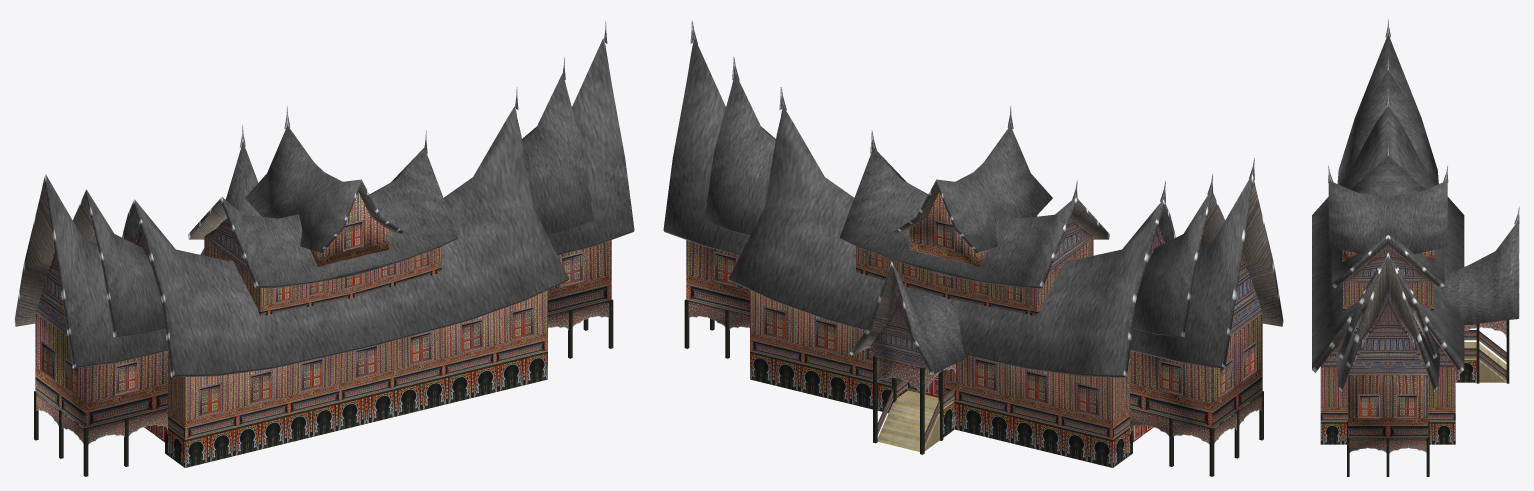
Rendered from rumah-gadang.glb.
The picture shows the model from 3 angles, left to right: view 1: azimuth 30°, elevation 25°; view 2: azimuth 150°, elevation 25°; view 3: azimuth 270°, elevation 25°; orthographic projection. The views are drawn at different scales.
Visible parts, largest first — view 1: Plane.003, Plane.028, Plane.026, Plane.029, Plane.036, Plane, Plane.027, Plane.034, Plane.035, Plane.040, Plane.041, Plane.042 (+5 smaller); view 2: Plane.003, Plane.028, Plane.026, Plane.029, Plane.036, Plane, Plane.027, Plane.038, Plane.034, Cube.018, Plane.039, Plane.035 (+7 smaller); view 3: Plane.003, Plane.029, Plane.027, Plane.036, Plane.026, Plane.038, Plane.028, Plane, Plane.034, Cube.018, Plane.043, Plane.039 (+3 smaller).
Boxes of the visible parts, x1,y1,x2,y2 form: Plane.003: [122, 106, 569, 377]; Plane.028: [133, 226, 547, 467]; Plane.026: [14, 38, 634, 368]; Plane.029: [35, 240, 611, 444]; Plane.036: [73, 73, 593, 337]; Plane: [188, 147, 458, 288]; Plane.027: [245, 125, 403, 252]; Plane.034: [204, 218, 441, 316]; Plane.035: [260, 192, 388, 266]; Plane.040: [300, 330, 432, 392]; Plane.041: [249, 318, 483, 405]; Plane.042: [198, 305, 534, 417]; Plane.003: [728, 106, 1175, 377]; Plane.028: [750, 226, 1164, 467]; Plane.026: [663, 38, 1283, 368]; Plane.029: [686, 240, 1262, 444]; Plane.036: [704, 73, 1224, 337]; Plane: [839, 147, 1109, 288]; Plane.027: [894, 125, 1052, 252]; Plane.038: [849, 261, 967, 374]; Plane.034: [856, 218, 1093, 316]; Cube.018: [877, 380, 954, 451]; Plane.039: [870, 295, 955, 394]; Plane.035: [909, 192, 1037, 266]; Plane.003: [1312, 106, 1464, 372]; Plane.029: [1348, 296, 1428, 453]; Plane.027: [1328, 180, 1447, 253]; Plane.036: [1337, 70, 1438, 358]; Plane.026: [1336, 34, 1439, 391]; Plane.038: [1436, 220, 1519, 324]; Plane.028: [1320, 314, 1455, 444]; Plane: [1331, 156, 1444, 288]; Plane.034: [1343, 247, 1433, 312]; Cube.018: [1455, 330, 1506, 382]; Plane.043: [1358, 393, 1418, 418]; Plane.039: [1464, 320, 1506, 337].
Bounding box in the file's own units: 35.07 × 18.49 × 13.96.
Materials: 1 (1 with a texture image).
